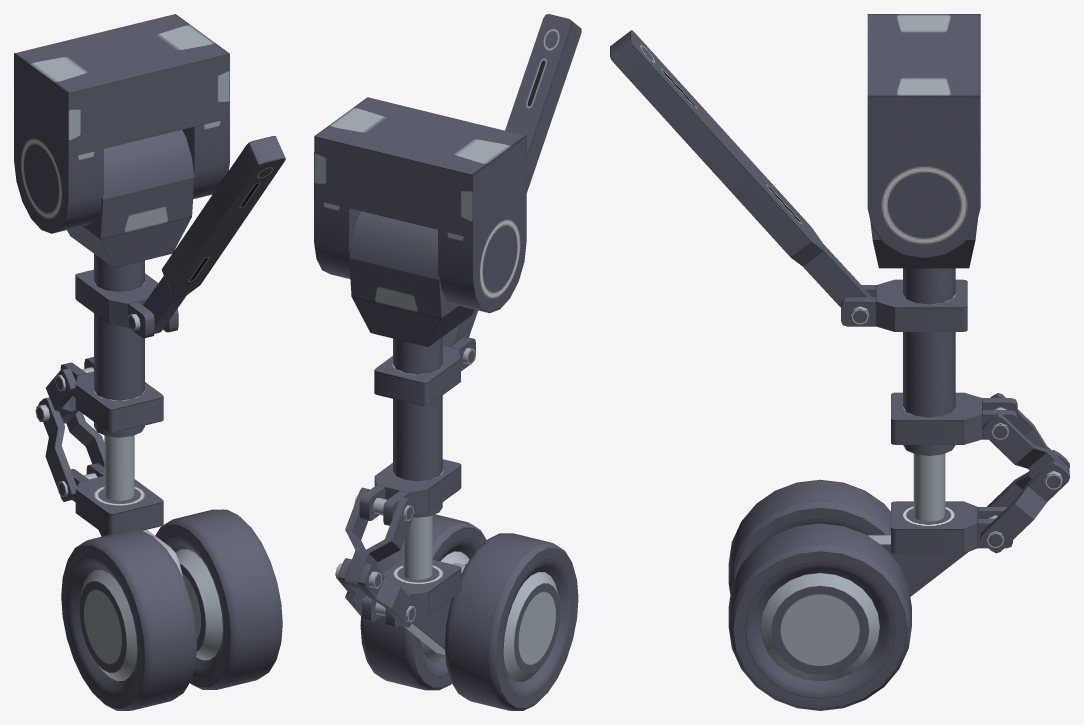
File: Gear_01.FBX
3 views of the same model, side by side, from view 1: azimuth 30°, elevation 25°; view 2: azimuth 150°, elevation 25°; view 3: azimuth 270°, elevation 25° (orthographic). The views are drawn at different scales.
Parts seen in each view (by area): view 1: Wheel_01, Gear_Pivot, Gear_Base, Gear_Fold; view 2: Gear_Pivot, Gear_Base, Wheel_01, Gear_Fold; view 3: Wheel_01, Gear_Pivot, Gear_Base, Gear_Fold.
Part boxes in pixels (box(x1,y1,x2,y2)): Wheel_01: box(61, 509, 282, 710); Gear_Pivot: box(35, 130, 194, 578); Gear_Base: box(14, 14, 229, 233); Gear_Fold: box(143, 136, 285, 333); Gear_Pivot: box(335, 211, 475, 654); Gear_Base: box(314, 97, 526, 313); Wheel_01: box(360, 514, 578, 710); Gear_Fold: box(442, 14, 581, 346); Wheel_01: box(728, 479, 911, 710); Gear_Pivot: box(841, 219, 1069, 596); Gear_Base: box(867, 14, 980, 258); Gear_Fold: box(610, 30, 872, 307).
Size of the model in its own units: 0.9204 by 3.37 by 2.18.
